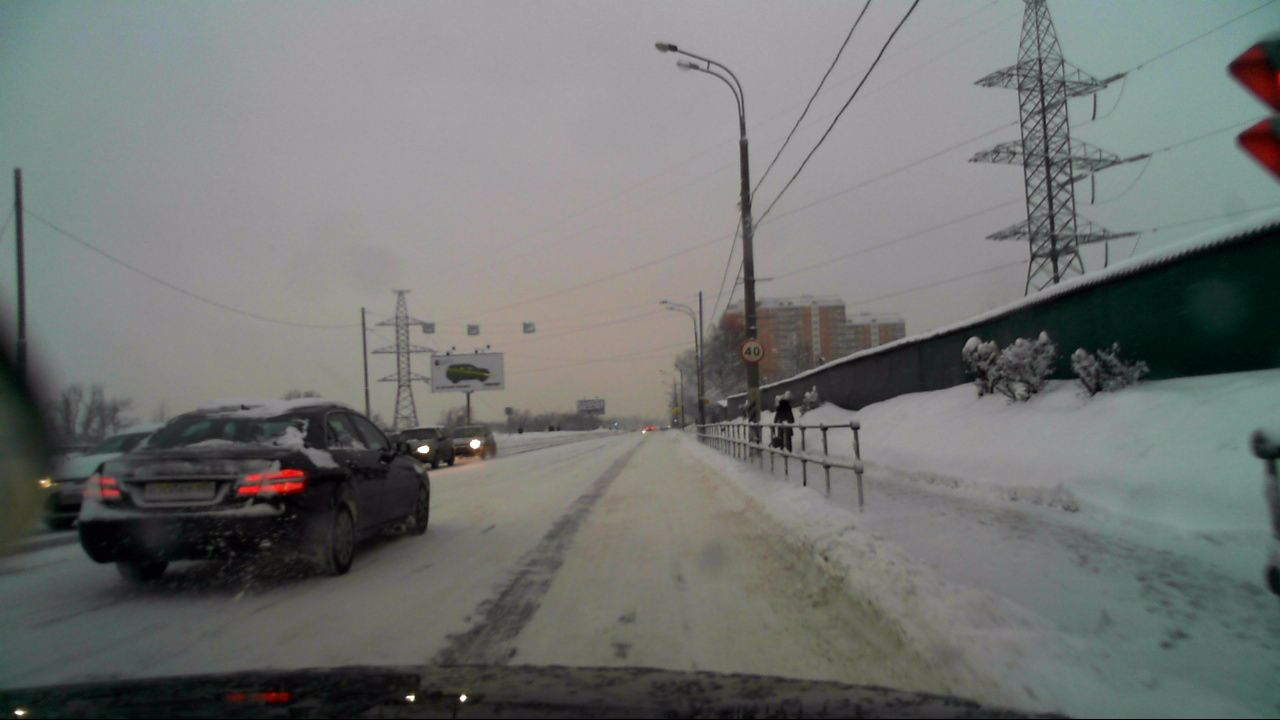speed_warning_40: (738, 338, 767, 364)
